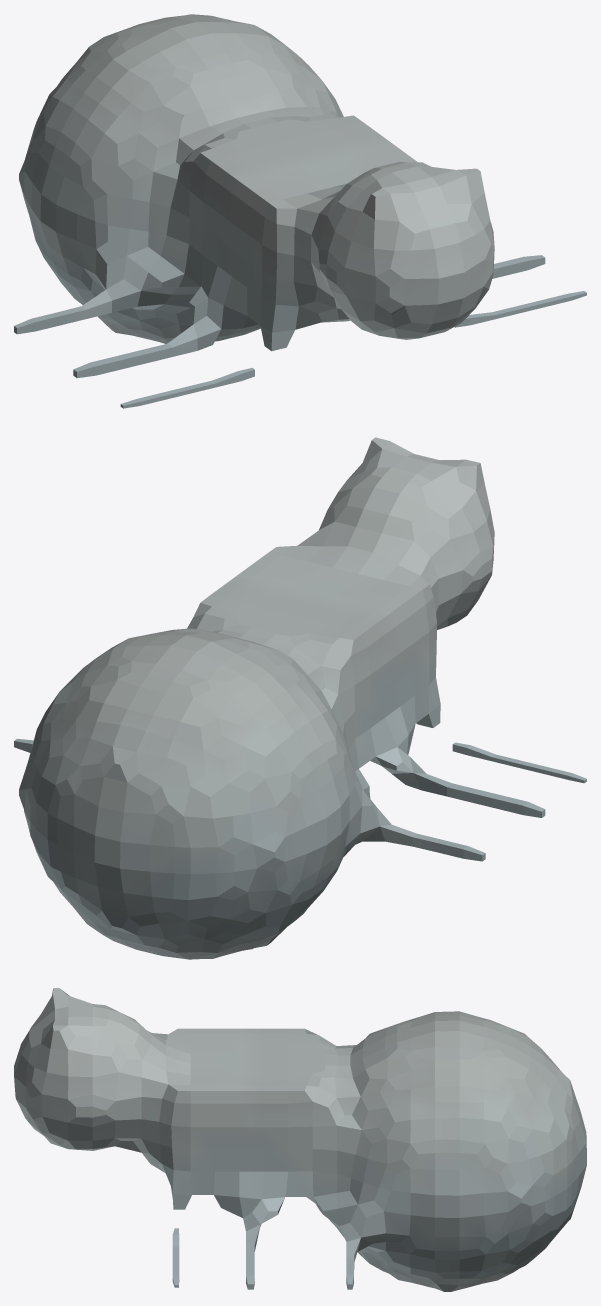
File: spiderQueen.glb
3 renders of one model, top to bottom at view 1: azimuth 30°, elevation 25°; view 2: azimuth 150°, elevation 25°; view 3: azimuth 270°, elevation 25°, orthographic. The views are drawn at different scales.
Parts seen in each view (by area): view 1: geometry_0; view 2: geometry_0; view 3: geometry_0.
Boxes of the visible parts, <box> form: geometry_0: <box>14,14,586,408</box>; geometry_0: <box>14,437,586,959</box>; geometry_0: <box>14,988,586,1291</box>.
Size of the model in its own units: 1.3 by 0.8487 by 1.66.
1 material, 1 textured.
